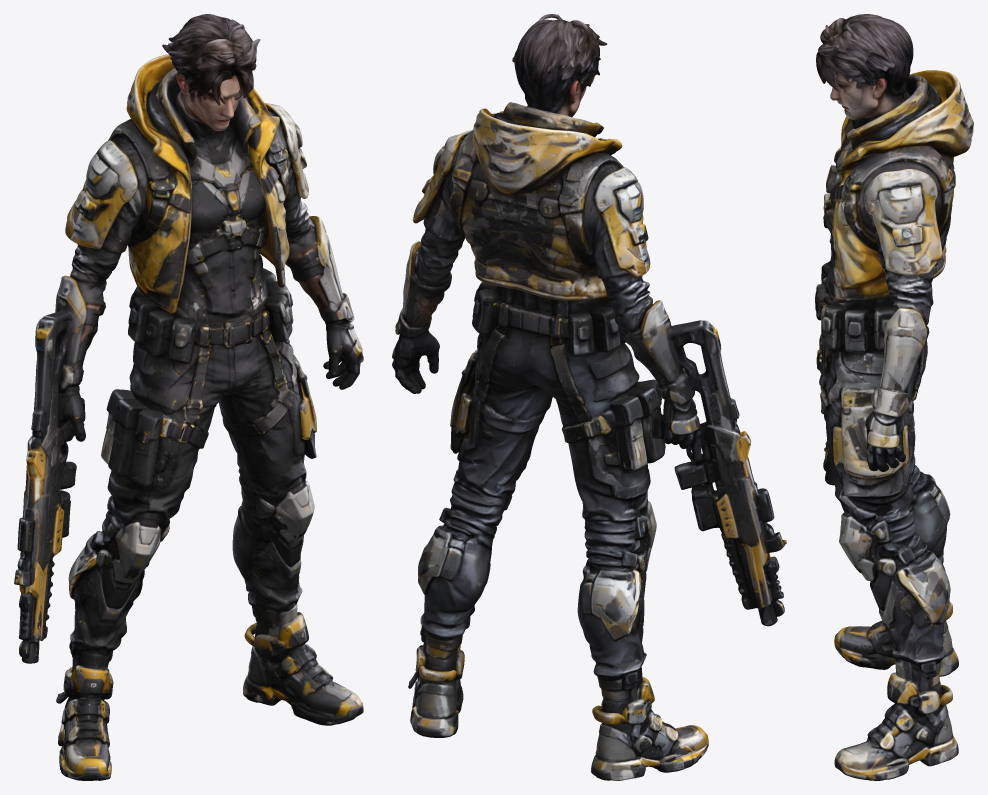
Rendered from HERO_01.glb.
The picture shows the model from 3 angles, left to right: view 1: azimuth 30°, elevation 25°; view 2: azimuth 150°, elevation 25°; view 3: azimuth 270°, elevation 25°; orthographic projection. The views are drawn at different scales.
Parts seen in each view (by area): view 1: tripo_node_99e335a3-2b13-4026-9739-305deb97582e; view 2: tripo_node_99e335a3-2b13-4026-9739-305deb97582e; view 3: tripo_node_99e335a3-2b13-4026-9739-305deb97582e.
Part boxes in pixels (left/top/right/bottom): tripo_node_99e335a3-2b13-4026-9739-305deb97582e: left=14, top=14, right=363, bottom=780; tripo_node_99e335a3-2b13-4026-9739-305deb97582e: left=392, top=14, right=786, bottom=780; tripo_node_99e335a3-2b13-4026-9739-305deb97582e: left=815, top=14, right=973, bottom=780.
Bounding box in the file's own units: 0.5329 × 1 × 0.2043.
1 material, 1 textured.
